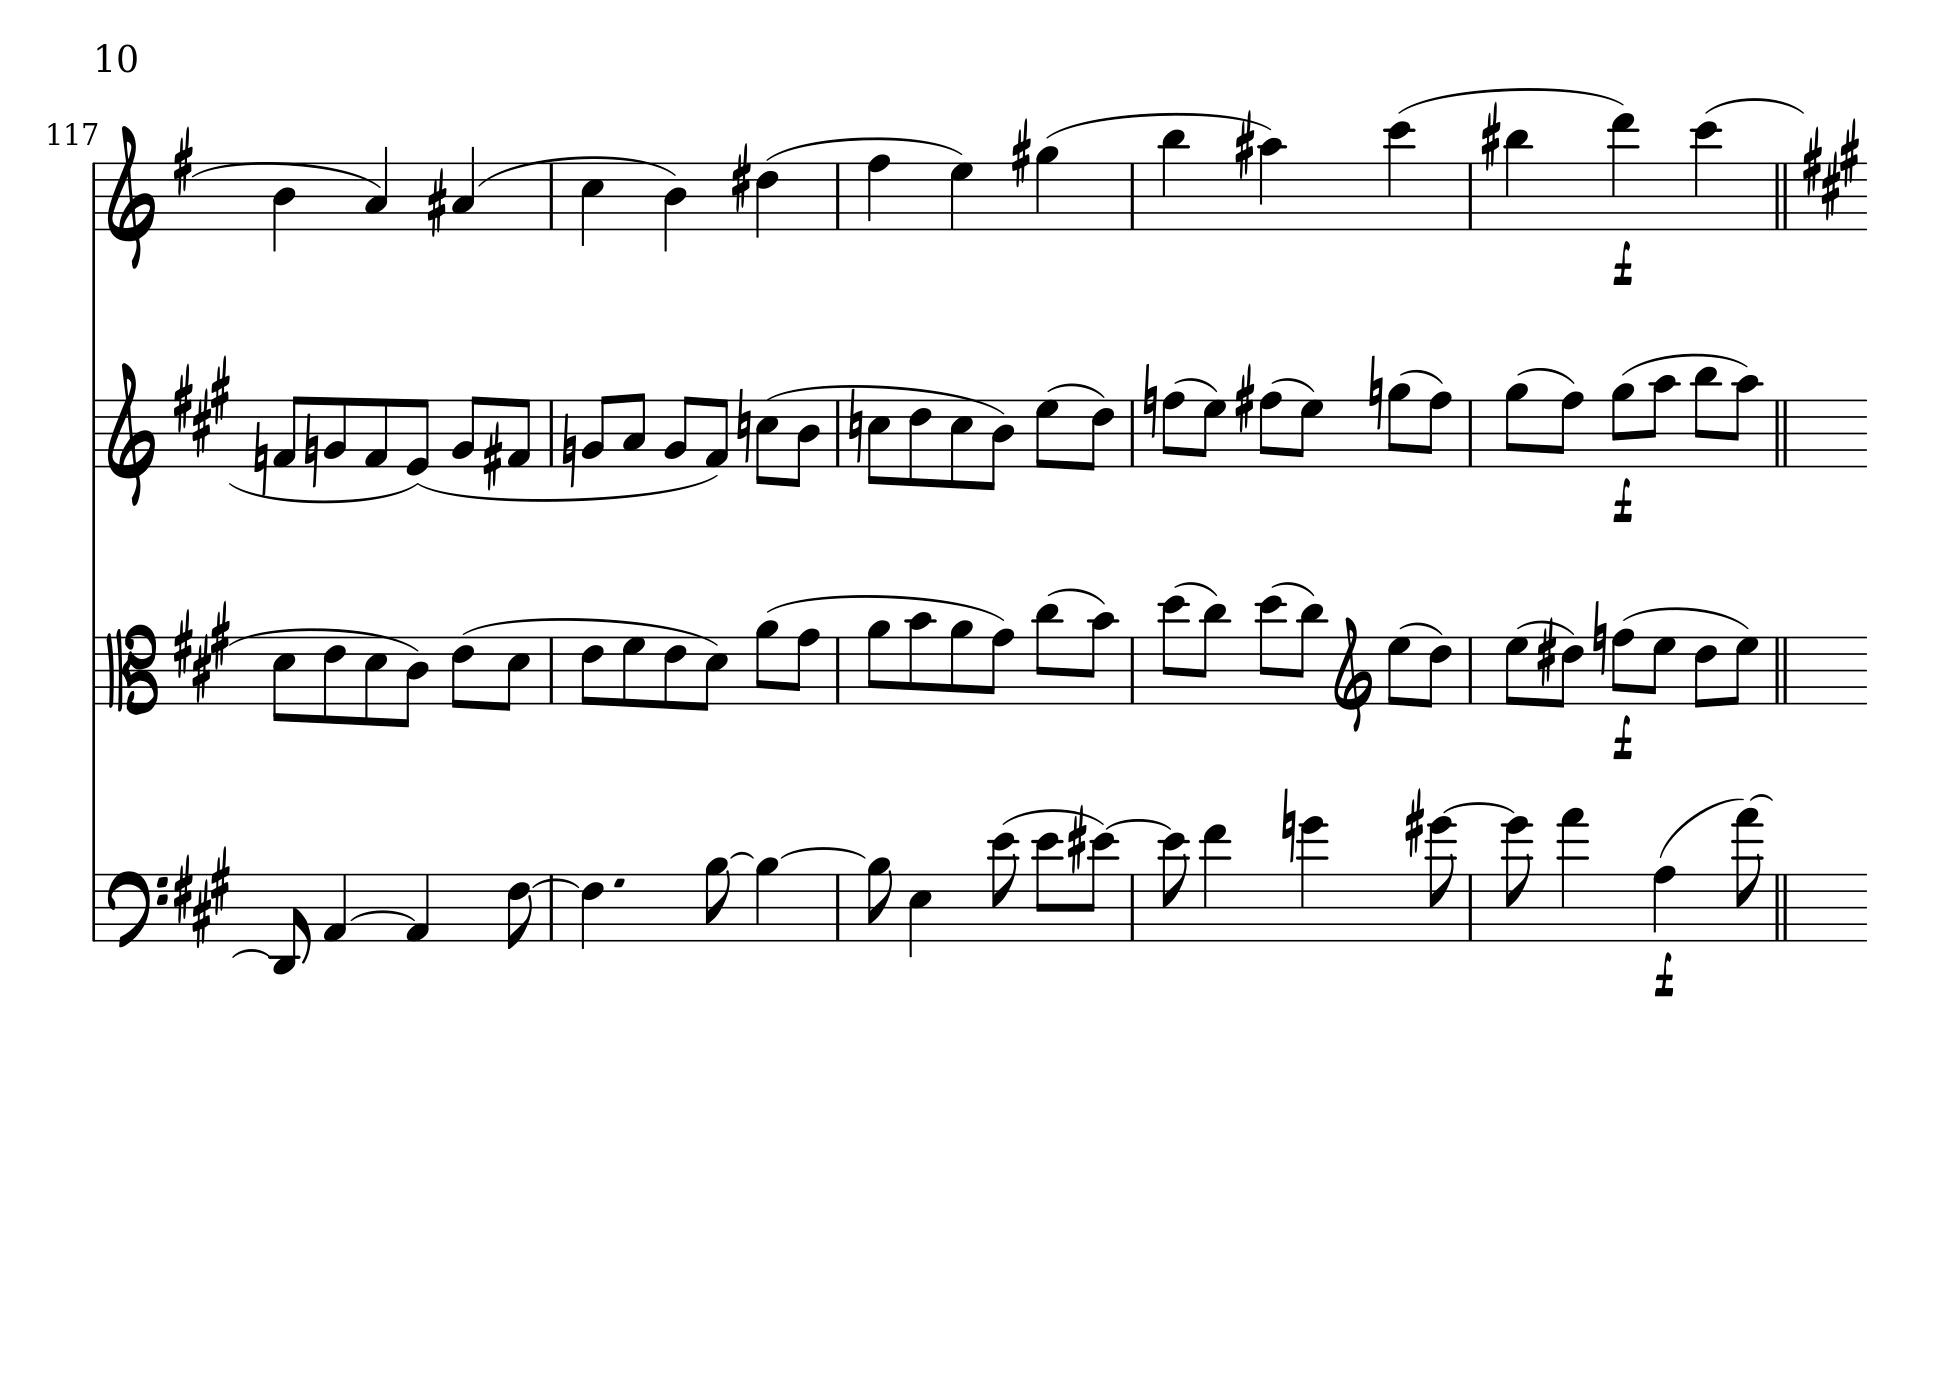0: (115, 40, 136, 73)
1: (94, 40, 112, 73), (46, 118, 61, 150), (64, 118, 79, 148)
4_1: (322, 871, 348, 943)
4_10: (1257, 136, 1287, 232)
4_11: (1158, 127, 1188, 232), (1503, 129, 1531, 232)
4_12: (1692, 120, 1722, 232), (1386, 121, 1416, 232)
4_13: (1200, 823, 1230, 945), (1609, 112, 1638, 232)
4_14: (1297, 814, 1329, 943)
4_15: (1557, 805, 1588, 943)
4_3: (364, 145, 390, 231), (451, 145, 477, 229)
4_4: (661, 160, 688, 253), (271, 162, 297, 252)
4_5: (579, 162, 606, 249), (907, 871, 933, 958)
4_6: (579, 871, 604, 951), (754, 160, 778, 240)
4_7: (948, 160, 973, 231)
4_8: (1651, 862, 1677, 942), (865, 151, 889, 232)
4_9: (753, 855, 778, 943), (1035, 142, 1059, 231)
7: (81, 118, 99, 150)
8_-3: (271, 871, 310, 975)
8_0: (405, 397, 430, 477)
8_1: (273, 393, 303, 468), (363, 396, 390, 469), (505, 397, 532, 469), (403, 871, 430, 943), (703, 397, 729, 469)
8_10: (1080, 610, 1119, 706), (1726, 373, 1761, 469), (1644, 373, 1678, 468), (906, 610, 934, 706)
8_11: (1194, 601, 1230, 706), (1291, 601, 1326, 706), (1032, 603, 1062, 706), (1692, 364, 1720, 468)
8_12: (1083, 829, 1119, 943), (1158, 592, 1189, 706), (1159, 829, 1191, 943), (1257, 592, 1287, 706), (990, 831, 1020, 943), (1033, 831, 1063, 942)
8_14: (1425, 816, 1458, 942), (1501, 816, 1533, 943)
8_15: (1731, 805, 1764, 943)
8_2: (663, 393, 694, 468), (450, 393, 481, 466), (580, 393, 610, 466), (322, 394, 348, 466)
8_3: (621, 391, 646, 469)
8_4: (397, 634, 430, 729), (984, 397, 1015, 492), (789, 399, 820, 490)
8_5: (496, 634, 531, 712), (697, 634, 729, 712), (948, 397, 973, 490), (361, 634, 387, 727), (271, 634, 297, 724), (754, 397, 778, 487), (865, 397, 889, 487)
8_6: (1083, 397, 1116, 472), (1422, 634, 1455, 709), (505, 871, 535, 952), (1554, 634, 1585, 709), (321, 636, 346, 726), (907, 397, 931, 487), (448, 634, 475, 709), (661, 634, 687, 711), (1693, 634, 1719, 709), (579, 634, 604, 706)
8_7: (1195, 397, 1227, 468), (1645, 634, 1677, 705), (1293, 397, 1323, 468), (1728, 634, 1758, 705), (621, 634, 646, 708), (1386, 634, 1411, 706), (1504, 634, 1530, 706), (1035, 397, 1059, 469)
8_8: (1549, 388, 1584, 469), (1419, 388, 1452, 469), (787, 627, 820, 706), (984, 627, 1014, 706), (1257, 388, 1282, 469), (1611, 625, 1635, 706), (1161, 390, 1185, 469)
8_9: (946, 618, 973, 706), (703, 856, 730, 943), (865, 856, 892, 943), (1503, 382, 1528, 469), (1609, 382, 1635, 469), (865, 619, 891, 706), (1386, 381, 1410, 469), (754, 619, 778, 706)
A_S: (1801, 118, 1863, 220), (172, 352, 232, 454), (172, 844, 232, 946)
Cclef: (103, 621, 157, 714)
Double_barline: (1770, 636, 1792, 702), (1770, 397, 1791, 466), (1771, 162, 1791, 229), (1771, 873, 1791, 939)
E_S: (171, 601, 231, 700)
Fclef: (106, 868, 169, 951)
Gclef: (105, 123, 156, 268), (106, 360, 157, 505), (1333, 615, 1374, 732)
Natural: (1366, 352, 1384, 432), (1279, 784, 1297, 864), (1141, 363, 1159, 441), (559, 411, 577, 487), (846, 388, 864, 463), (252, 418, 268, 496), (735, 387, 751, 463), (1591, 598, 1608, 675), (303, 414, 319, 487)
Sharp: (424, 166, 448, 238), (172, 124, 195, 196), (1479, 100, 1501, 172), (1402, 786, 1425, 858), (1233, 112, 1255, 178), (1011, 118, 1032, 189), (1233, 366, 1254, 433), (730, 147, 751, 213), (1066, 807, 1087, 873), (481, 424, 502, 489), (1536, 624, 1557, 687)
Single_barline: (829, 163, 847, 229), (541, 637, 559, 703), (829, 399, 846, 466), (1462, 162, 1479, 228), (543, 400, 559, 466), (543, 165, 559, 229), (1125, 400, 1141, 465), (829, 637, 846, 702), (1462, 400, 1479, 463), (1462, 637, 1479, 700), (85, 399, 100, 466), (85, 636, 100, 703), (85, 873, 100, 940), (85, 163, 100, 229), (1125, 163, 1140, 228), (831, 874, 846, 939), (1125, 637, 1140, 700), (544, 876, 559, 937), (1464, 873, 1477, 940)
Slur: (417, 475, 720, 502), (462, 616, 717, 646), (769, 385, 1005, 415), (1395, 85, 1629, 114), (475, 154, 675, 186), (766, 595, 1008, 621), (1656, 793, 1746, 861), (1044, 112, 1269, 139), (190, 163, 382, 190), (762, 138, 964, 160), (229, 628, 418, 649), (1620, 604, 1749, 630), (1620, 352, 1750, 375), (226, 484, 417, 499), (1704, 94, 1806, 115), (1000, 808, 1101, 826), (780, 844, 867, 861), (1516, 364, 1576, 385), (1047, 586, 1108, 606), (1443, 799, 1516, 814), (349, 907, 415, 922), (1050, 379, 1104, 397), (1518, 618, 1575, 634), (1270, 579, 1317, 598), (1173, 579, 1221, 597), (1174, 375, 1219, 393), (1270, 375, 1315, 393), (1107, 817, 1173, 829), (1401, 367, 1444, 385), (1399, 619, 1443, 636), (532, 876, 579, 889), (231, 946, 271, 958), (729, 850, 754, 861), (1749, 793, 1776, 802)
dot: (610, 874, 627, 889)
f: (1611, 238, 1635, 288), (1611, 477, 1635, 525), (1653, 949, 1677, 997), (1611, 714, 1635, 760)
